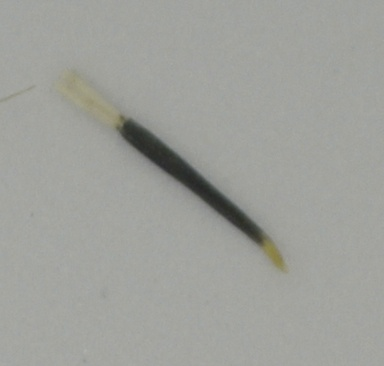เมล็ดดีเรียวยาว: (56, 74, 295, 276)
